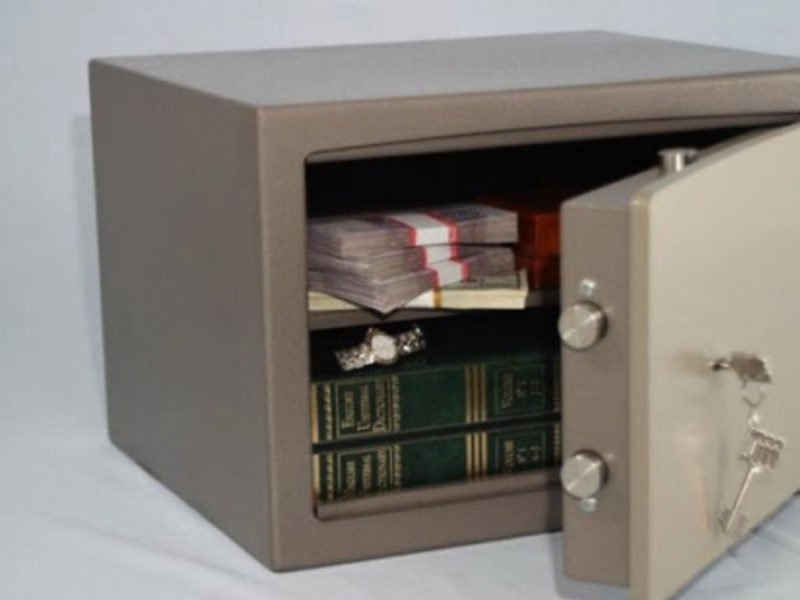cash: (305, 204, 528, 315)
